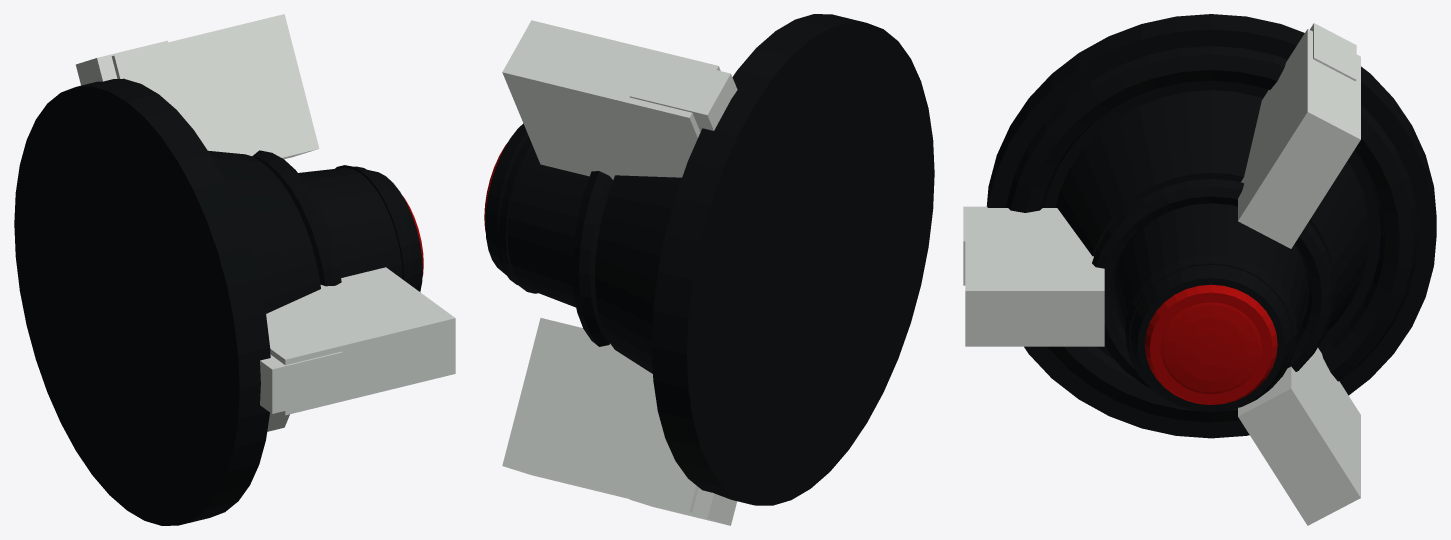
The model's file is SM_LaserEmitter.obj.
3 renders of one model, left to right at view 1: azimuth 30°, elevation 25°; view 2: azimuth 150°, elevation 25°; view 3: azimuth 270°, elevation 25°, orthographic. The views are drawn at different scales.
Visible parts, largest first — view 1: SM_LaserEmitter; view 2: SM_LaserEmitter; view 3: SM_LaserEmitter.
Boxes of the visible parts, x1,y1,x2,y2 form: SM_LaserEmitter: [14, 14, 455, 525]; SM_LaserEmitter: [484, 14, 934, 525]; SM_LaserEmitter: [963, 14, 1436, 525].
Bounding box in the file's own units: 76 × 111 × 116.
